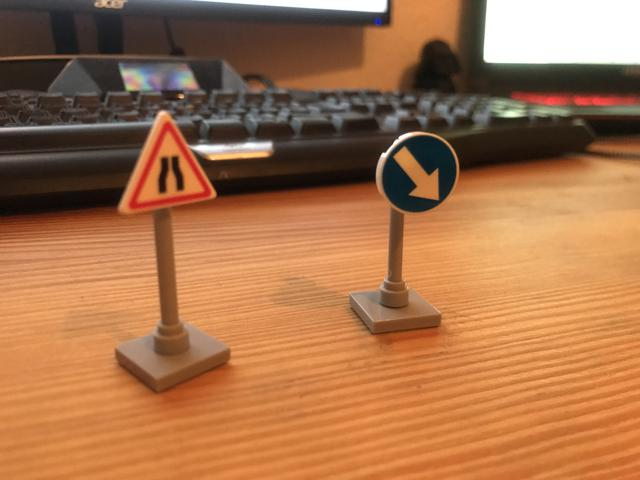rechts halten: (376, 129, 462, 217)
verengte fahrbahn: (115, 106, 223, 218)
